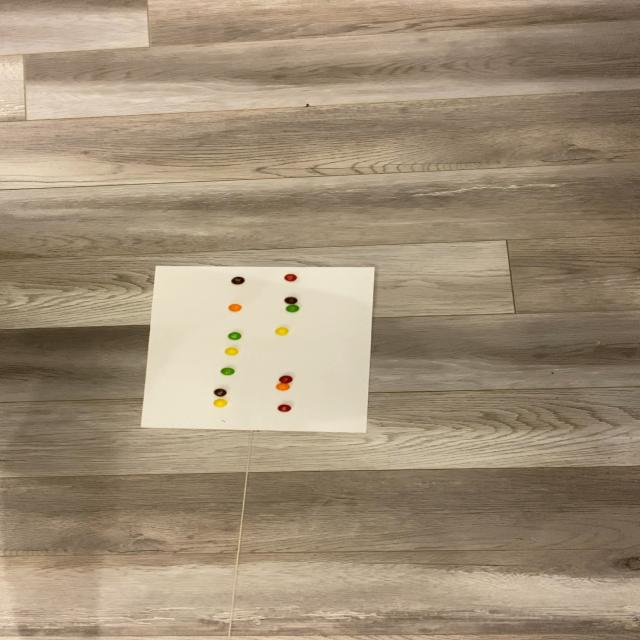smartie: (212, 388, 227, 397), (220, 367, 235, 376), (275, 327, 289, 336), (213, 399, 227, 408), (278, 375, 293, 383), (227, 332, 242, 340), (230, 277, 244, 285), (284, 297, 298, 305), (228, 304, 242, 312), (283, 274, 297, 282), (278, 405, 292, 413), (224, 348, 238, 356), (277, 383, 291, 390), (285, 305, 299, 312)
